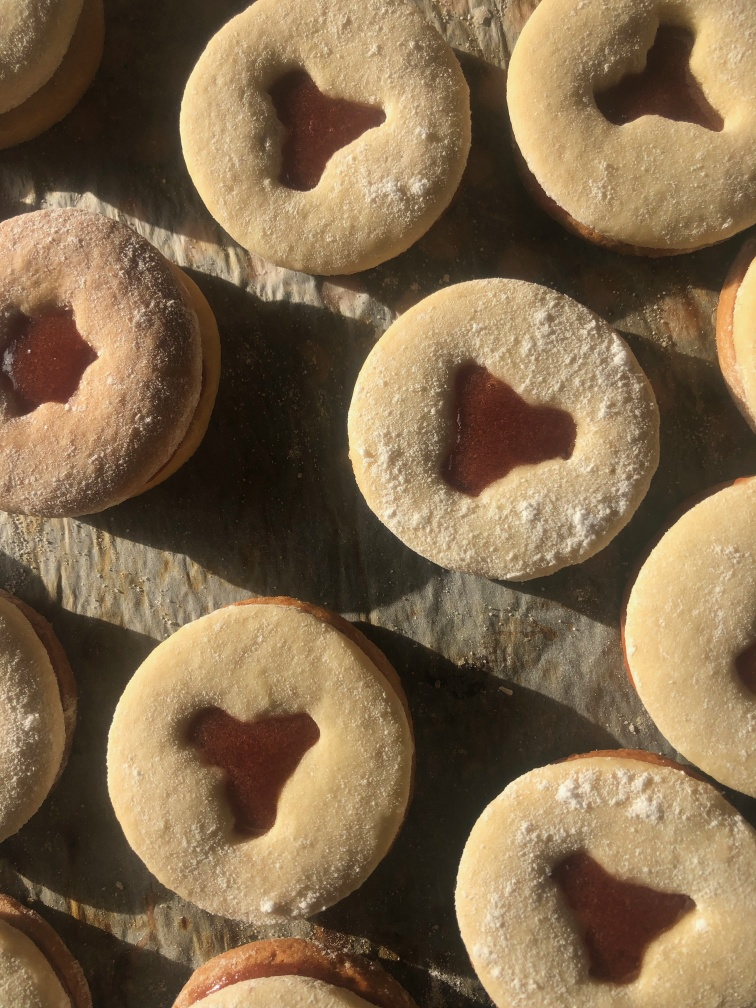christmas shortbread with jam: (109, 595, 412, 924), (347, 273, 645, 577), (181, 1, 478, 272), (460, 756, 756, 1008), (2, 208, 218, 514), (506, 3, 755, 251), (628, 478, 755, 775)
